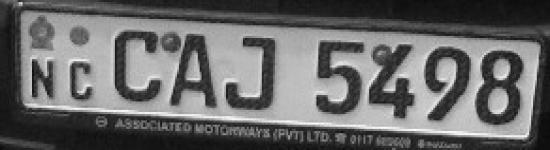4: (368, 38, 421, 122)
5: (311, 31, 367, 121)
8: (473, 43, 526, 130)
9: (422, 39, 473, 128)
A: (163, 27, 223, 111)
C: (110, 25, 163, 107), (63, 52, 99, 107)
J: (224, 32, 281, 114)
N: (24, 54, 60, 103)
